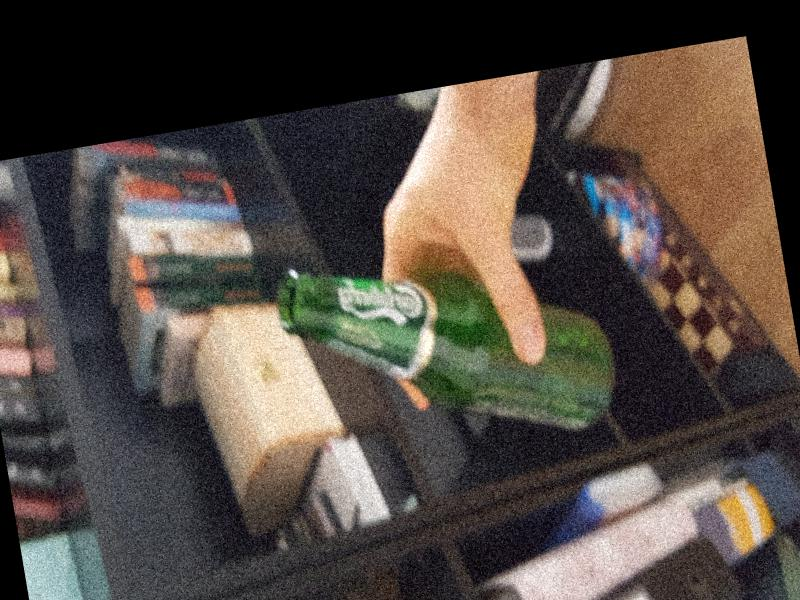Beer: (273, 223, 625, 480)
